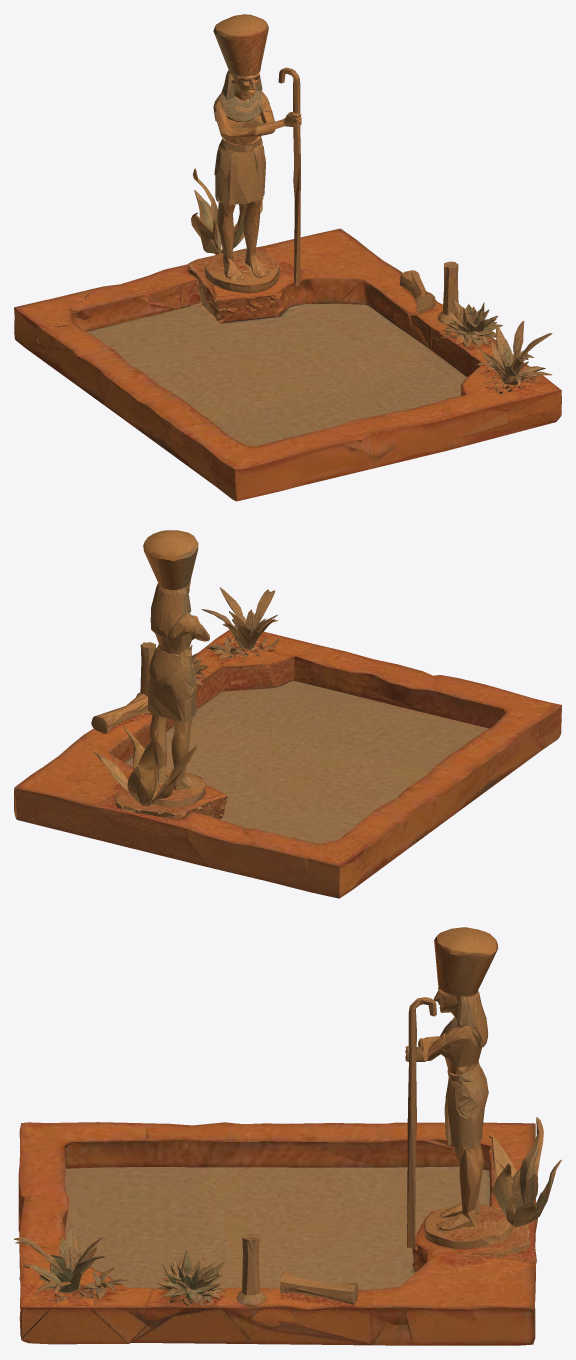
Rendered from pool.glb.
3 views of the same model, one above another, from view 1: azimuth 30°, elevation 25°; view 2: azimuth 150°, elevation 25°; view 3: azimuth 270°, elevation 25° (orthographic). The views are drawn at different scales.
Visible parts, largest first — view 1: mesh_node; view 2: mesh_node; view 3: mesh_node.
Part boxes in pixels (x1,y1,x2,y2): mesh_node: [14, 14, 561, 501]; mesh_node: [14, 530, 561, 898]; mesh_node: [14, 927, 561, 1345].
Size of the model in its own units: 1.57 by 1.31 by 1.9.
1 material, 1 textured.
